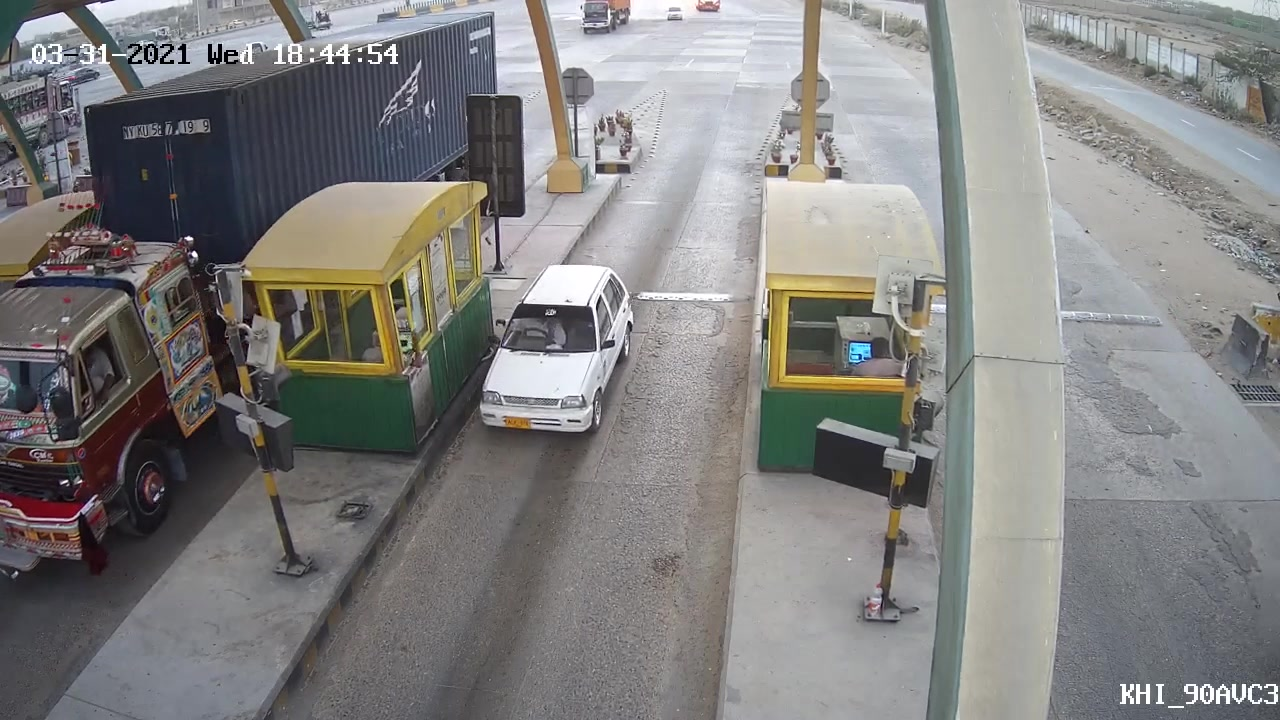F1: (468, 255, 649, 435)
